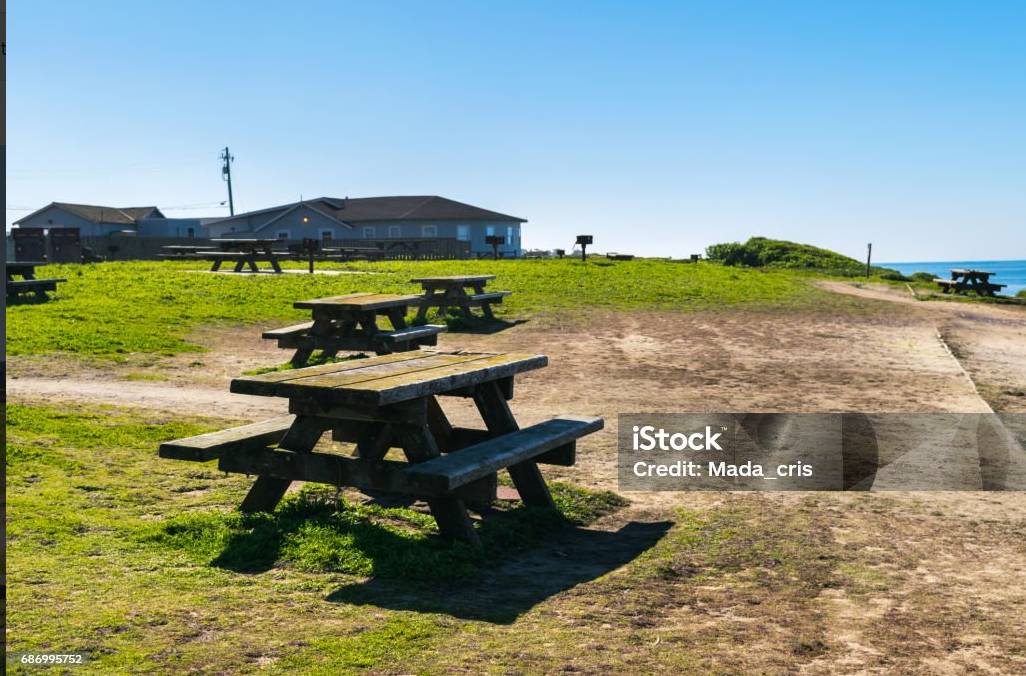obstacle: (148, 335, 604, 553), (272, 295, 447, 358), (401, 270, 514, 321), (930, 264, 1011, 308)
